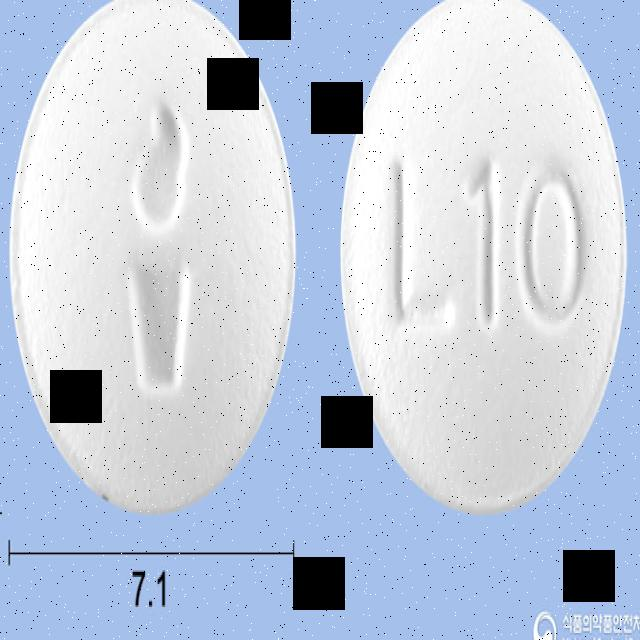Leflu - 20mg: (338, 0, 630, 516), (5, 0, 297, 512)
